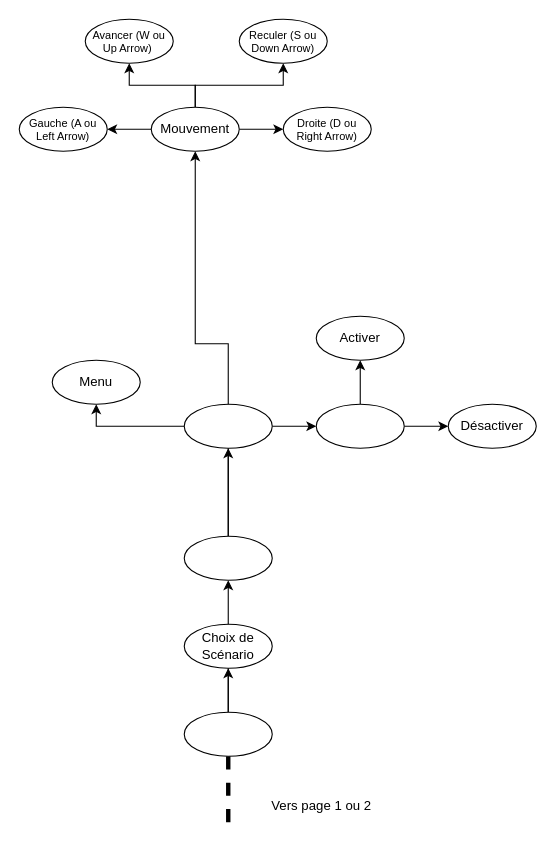
The diagram is 556 pixels wide and 845 high, and some of its shapes have lost their labels. The box of each missing label's shape, as (x1, y1, x2, y2) in pixels:
Charger Scénario: (183, 535, 272, 580)
Début Scénario: (183, 403, 272, 448)
Raytracing View: (315, 403, 404, 448)
Tester Scénario: (183, 711, 272, 756)
